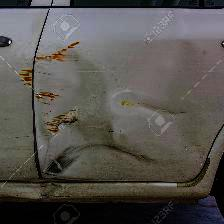door_dent: (22, 42, 206, 195)
